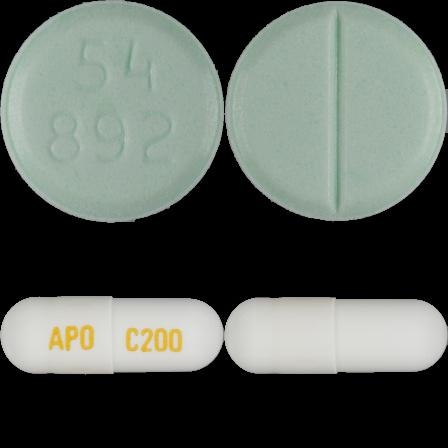63187-561: (0, 0, 224, 224)
